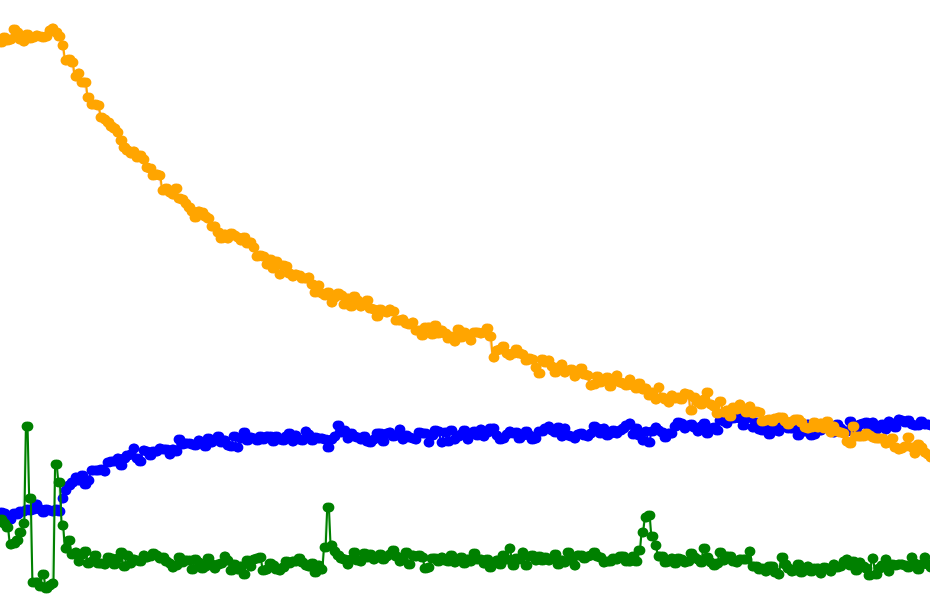CO2 Problem: (311, 0, 583, 616), (349, 0, 583, 616), (777, 0, 930, 616), (661, 0, 777, 616), (77, 0, 155, 616), (155, 0, 233, 616), (233, 0, 311, 616), (583, 0, 661, 616), (0, 0, 77, 616)
Condensation (CO2): (349, 0, 544, 616), (777, 0, 930, 616), (661, 0, 777, 616), (77, 0, 155, 616), (155, 0, 233, 616), (583, 0, 661, 616)
Condensation (O2): (661, 0, 777, 616), (583, 0, 661, 616)
High CO2: (311, 0, 544, 616), (777, 0, 930, 616), (77, 0, 155, 616), (155, 0, 233, 616), (233, 0, 311, 616), (0, 0, 77, 616)
High O2: (311, 0, 661, 616), (777, 0, 930, 616), (661, 0, 777, 616)
Low CO2: (311, 0, 661, 616), (661, 0, 777, 616), (77, 0, 155, 616), (155, 0, 233, 616), (233, 0, 311, 616), (583, 0, 661, 616), (0, 0, 77, 616)
Low O2: (661, 0, 930, 616), (777, 0, 930, 616)
Normal: (77, 0, 661, 616), (311, 0, 661, 616), (583, 0, 930, 616), (311, 0, 622, 616), (311, 0, 583, 616), (661, 0, 930, 616), (77, 0, 311, 616), (349, 0, 583, 616), (311, 0, 544, 616), (349, 0, 544, 616), (77, 0, 233, 616), (155, 0, 311, 616), (0, 0, 155, 616), (777, 0, 930, 616), (661, 0, 777, 616), (77, 0, 155, 616), (155, 0, 233, 616), (233, 0, 311, 616), (583, 0, 661, 616), (0, 0, 77, 616), (661, 0, 738, 616)
O2 Problem: (777, 0, 930, 616), (661, 0, 777, 616), (583, 0, 661, 616)
